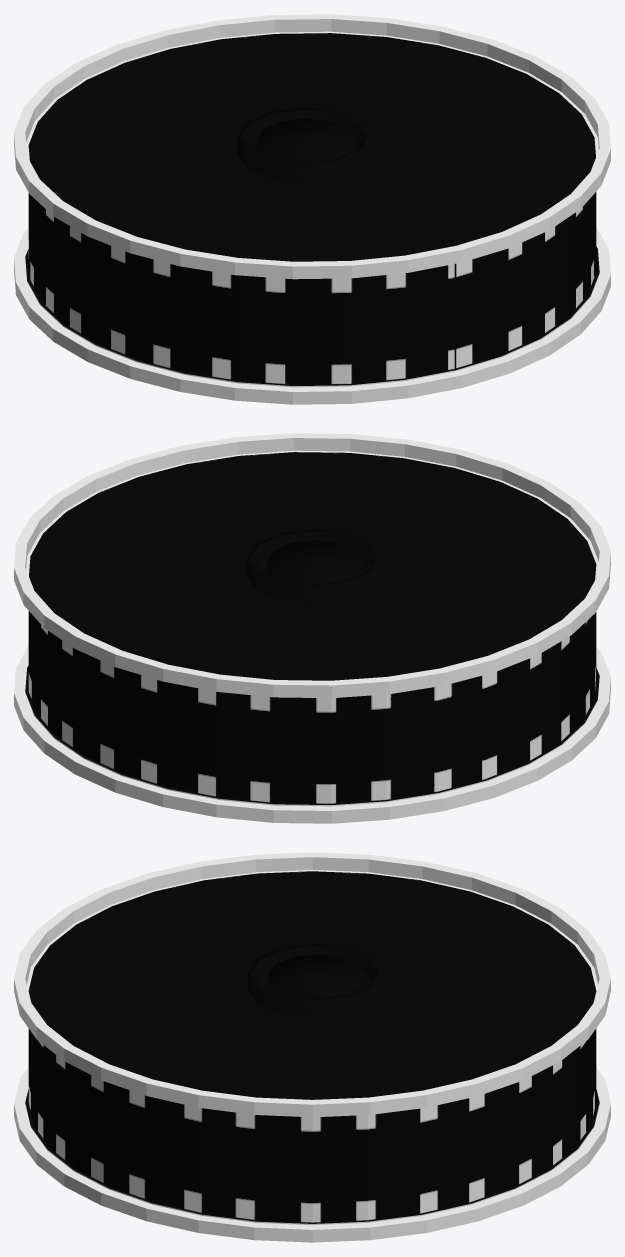
3 renders of one model, top to bottom at view 1: azimuth 30°, elevation 25°; view 2: azimuth 150°, elevation 25°; view 3: azimuth 270°, elevation 25°, orthographic.
Parts seen in each view (by area): view 1: Camera; view 2: Camera; view 3: Camera.
Part boxes in pixels (left/top/right/bottom): Camera: left=14, top=14, right=610, bottom=404; Camera: left=14, top=433, right=610, bottom=823; Camera: left=14, top=852, right=610, bottom=1242.
Size of the model in its own units: 98.3 by 98.3 by 26.23.
1 material, 1 textured.
